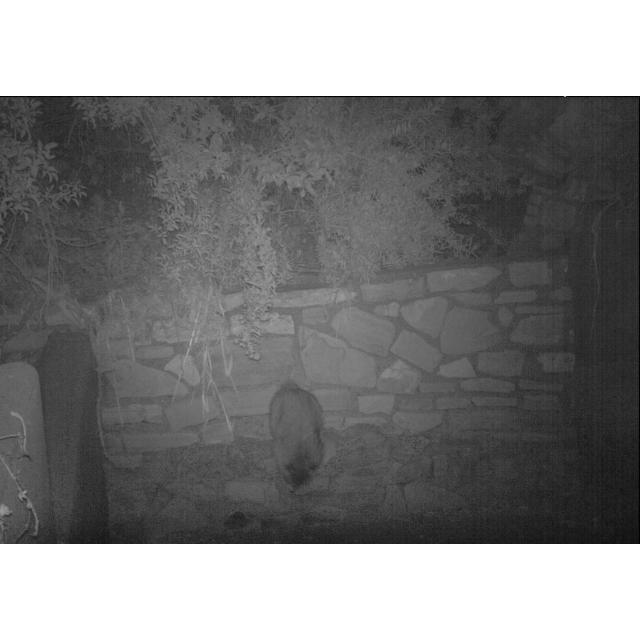animals: (268, 374, 328, 492)
